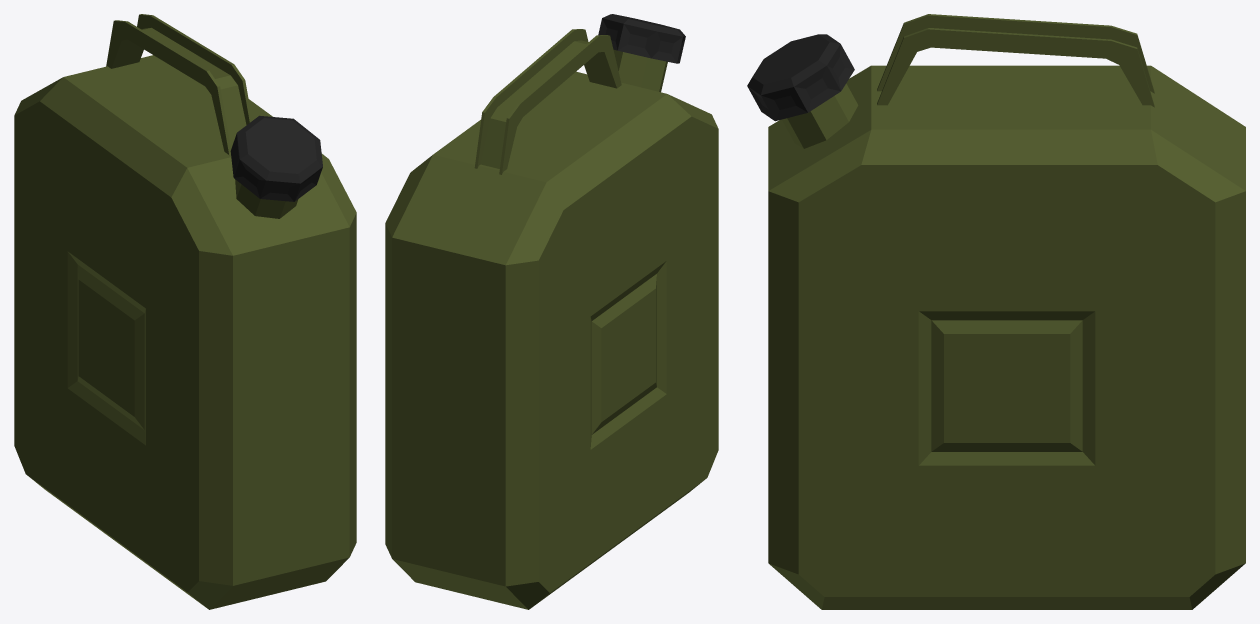
The model's file is Jerrycan_vc.fbx.
3 views of the same model, side by side, from view 1: azimuth 30°, elevation 25°; view 2: azimuth 150°, elevation 25°; view 3: azimuth 270°, elevation 25° (orthographic). The views are drawn at different scales.
Parts seen in each view (by area): view 1: Jerrycan_vc; view 2: Jerrycan_vc; view 3: Jerrycan_vc.
Part boxes in pixels (x1=…): Jerrycan_vc: x1=14, y1=14, x2=356, y2=609; Jerrycan_vc: x1=385, y1=14, x2=718, y2=609; Jerrycan_vc: x1=747, y1=14, x2=1245, y2=609.
Size of the model in its own units: 11.65 by 34.84 by 28.32.
